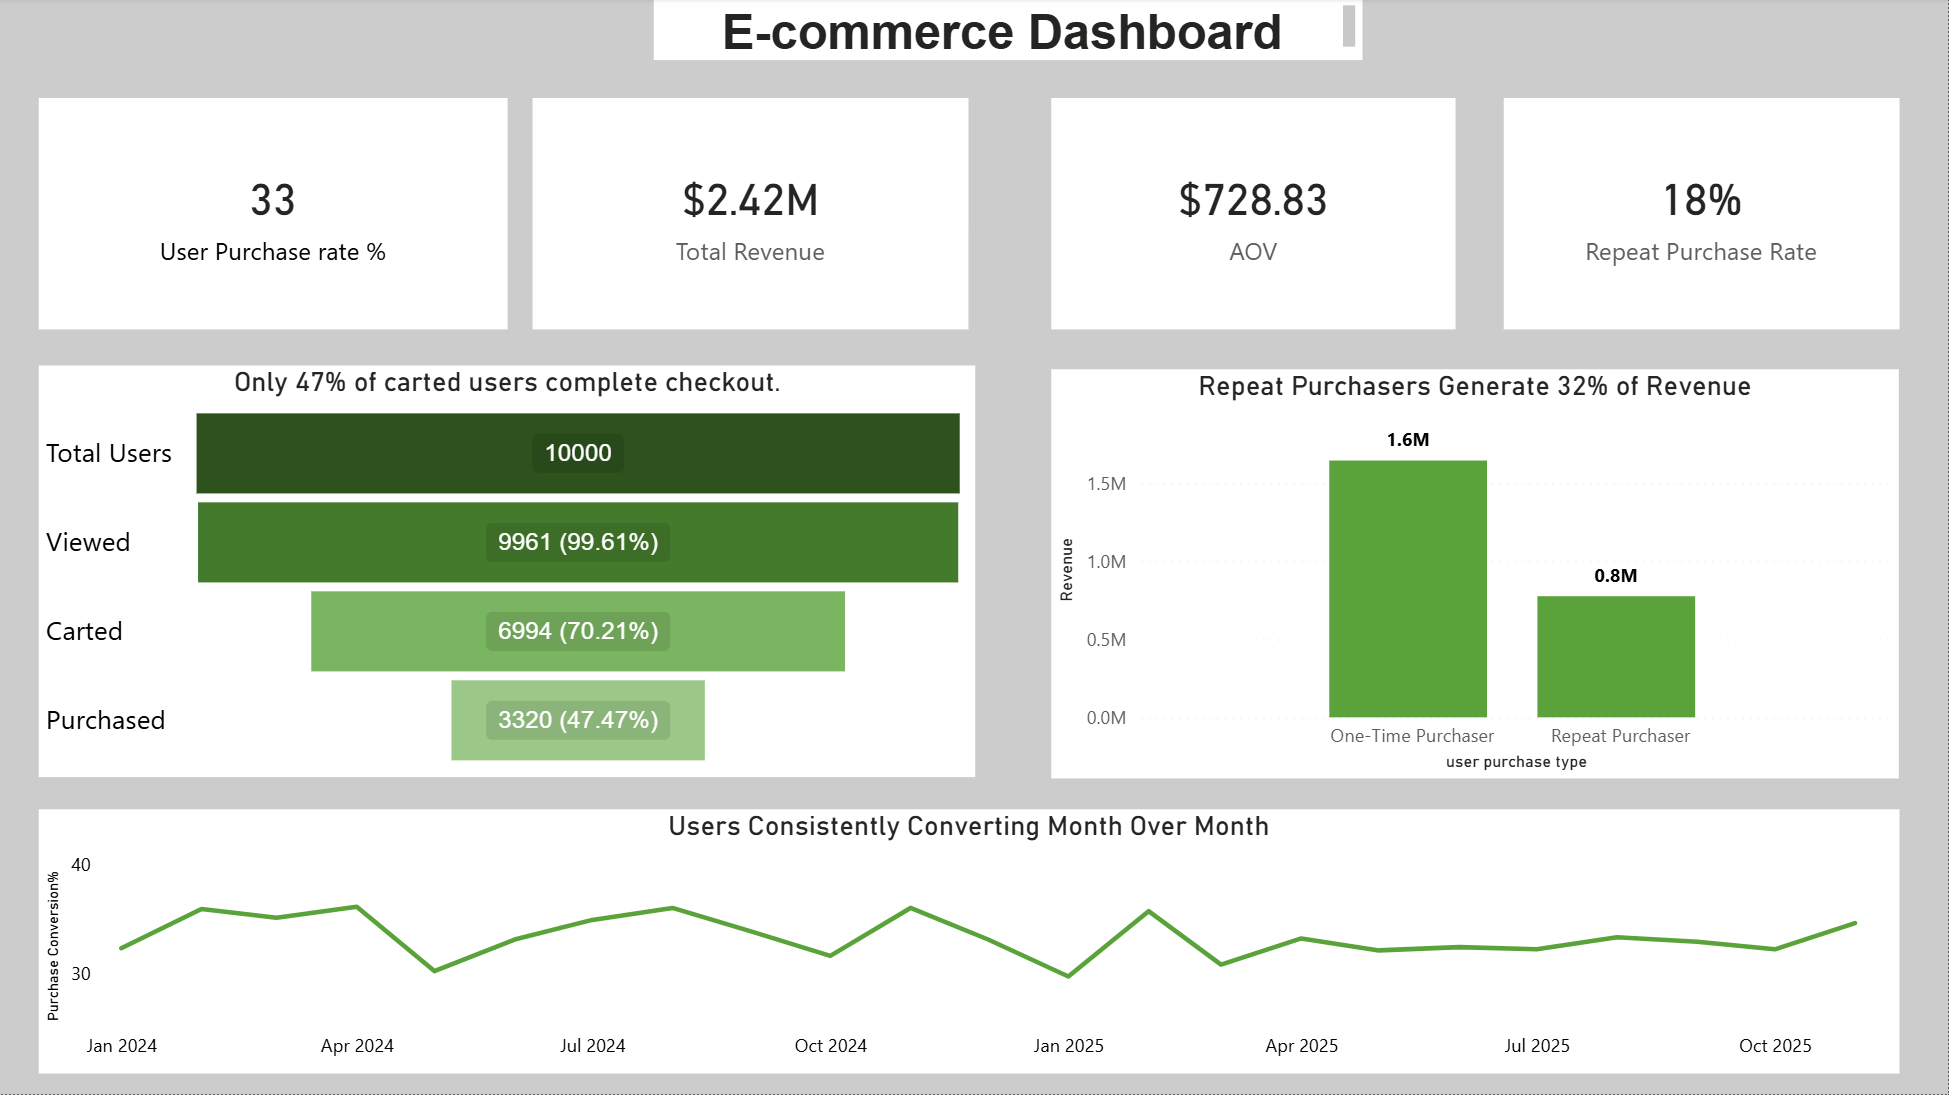

What the dashboard file says about the page in this screenshot:
{"tool":"powerbi","page":{"name":"Page 1","canvas":[1280,720],"ordinal":0},"visuals":[{"type":"funnel","title":"Only 47% of carted users complete checkout.","fields":{"Category":["UserFunnel.Stage"],"Y":["Sum(UserFunnel.Users)"]},"box":[25.1,241.8,615.2,270.4],"z":0},{"type":"card","title":"Total revenue","fields":{"Values":["Sum(total revenue + aov.total_revenue)"]},"box":[350.1,65.4,286.6,152.2],"z":1000},{"type":"card","fields":{"Values":["Sum(total revenue + aov.avg_revenue_per_purchase)"]},"box":[690.4,65.4,266,152.2],"z":2000},{"type":"card","fields":{"Values":["Sum(total revenue + aov.purchase_rate_pct)"]},"box":[25.1,65.4,308.1,152.2],"z":3000},{"type":"lineChart","title":"Users Consistently Converting Month Over Month","fields":{"Category":["cohort funnel.Signup Month.Variation.Date Hierarchy.Year","cohort funnel.Signup Month.Variation.Date Hierarchy.Quarter","cohort funnel.Signup Month.Variation.Date Hierarchy.Month","cohort funnel.Signup Month.Variation.Date Hierarchy.Day"],"Y":["Sum(cohort funnel.Purchase Conversion %)"]},"box":[25.1,532.8,1222.4,173.7],"z":4000},{"type":"card","fields":{"Values":["Sum(repeat purchasers.repeat purchasers percenatage)"]},"box":[987.8,65.4,259.7,152.2],"z":5000},{"type":"clusteredColumnChart","title":"Repeat Purchasers Generate 32% of Revenue","fields":{"Y":["Sum(repeat purchasers chart.revenue)"],"Category":["repeat purchasers chart.user purchase type"]},"box":[690.4,243.6,557,268.7],"z":6000},{"type":"textbox","box":[429.9,0,465.7,41.2],"z":7000}]}

Visuals, with their boxes in screenshot pixels (x1, y1, x2, y2), scaled from the page's 1280x720 canvas onto the 1949x1095 screenshot:
"Only 47% of carted users complete checkout." funnel: {"x1": 38, "y1": 368, "x2": 975, "y2": 779}
"Total revenue" card: {"x1": 533, "y1": 99, "x2": 969, "y2": 331}
card - Sum(total revenue + aov.avg_revenue_per_purchase): {"x1": 1051, "y1": 99, "x2": 1456, "y2": 331}
card - Sum(total revenue + aov.purchase_rate_pct): {"x1": 38, "y1": 99, "x2": 507, "y2": 331}
"Users Consistently Converting Month Over Month" lineChart: {"x1": 38, "y1": 810, "x2": 1900, "y2": 1074}
card - Sum(repeat purchasers.repeat purchasers percenatage): {"x1": 1504, "y1": 99, "x2": 1900, "y2": 331}
"Repeat Purchasers Generate 32% of Revenue" clusteredColumnChart: {"x1": 1051, "y1": 370, "x2": 1899, "y2": 779}
textbox: {"x1": 655, "y1": 0, "x2": 1364, "y2": 63}
